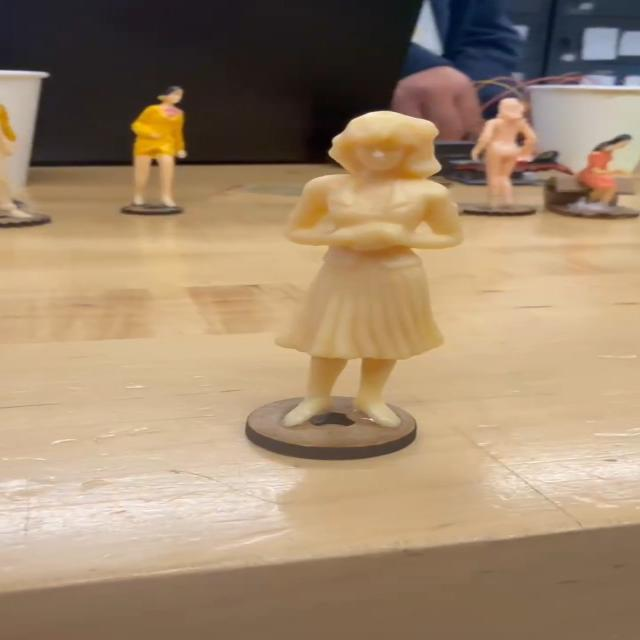Unauthorized: (249, 95, 448, 446)
